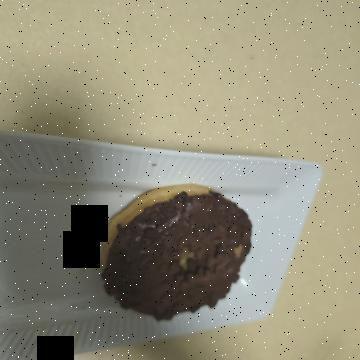doughnut: (166, 109, 327, 282)
